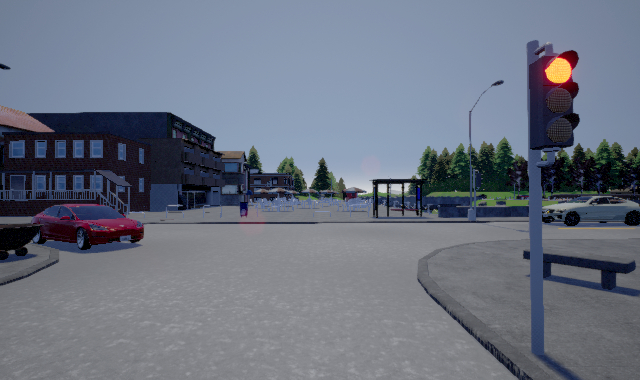traffic_light: (529, 48, 579, 151)
vehicle: (31, 204, 144, 250), (542, 196, 640, 226)
